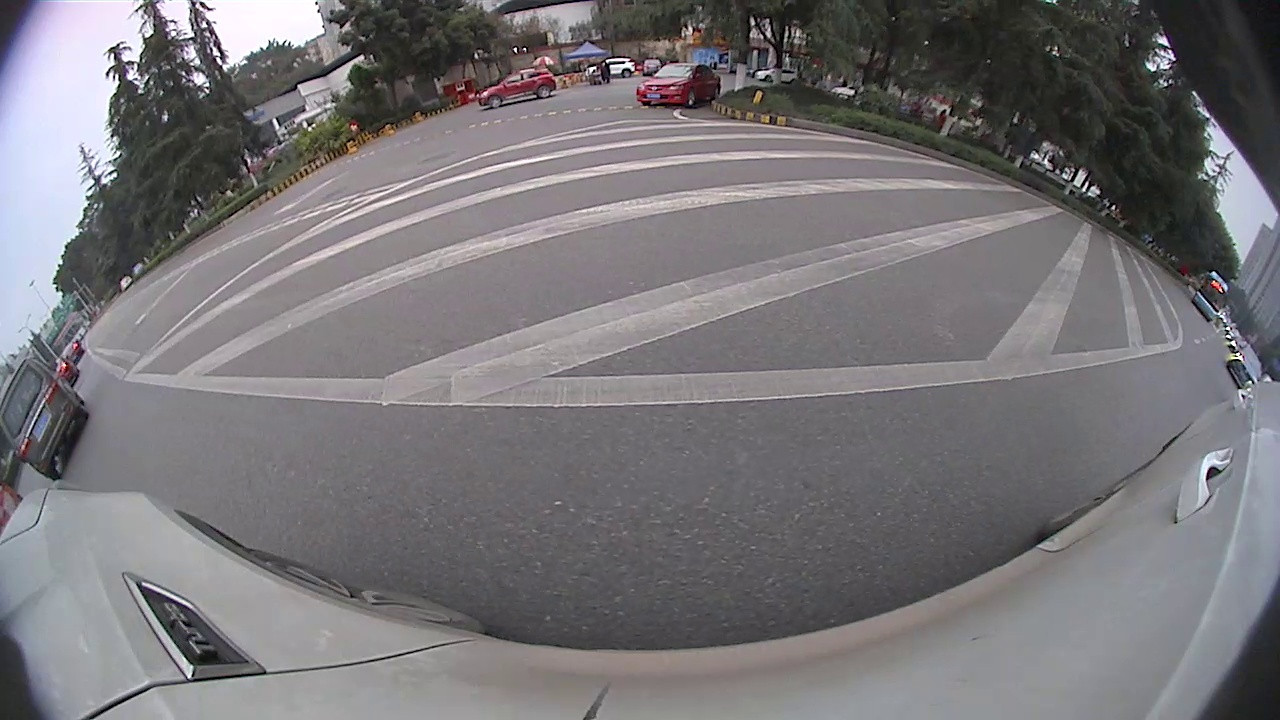car: (492, 36, 844, 193), (29, 220, 197, 382), (362, 59, 508, 148), (982, 163, 1072, 251), (1171, 366, 1240, 457), (172, 146, 267, 212), (1109, 271, 1170, 336), (89, 187, 171, 231)
front: (769, 140, 823, 194), (77, 338, 112, 378), (1049, 230, 1066, 250), (213, 177, 228, 197)
rear: (537, 114, 596, 172), (384, 115, 413, 146), (1018, 209, 1034, 233), (180, 194, 196, 213)
